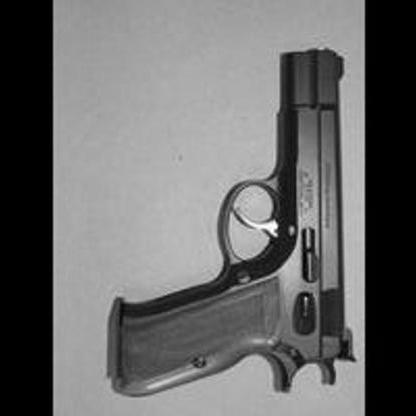weapon: (101, 45, 360, 401)
